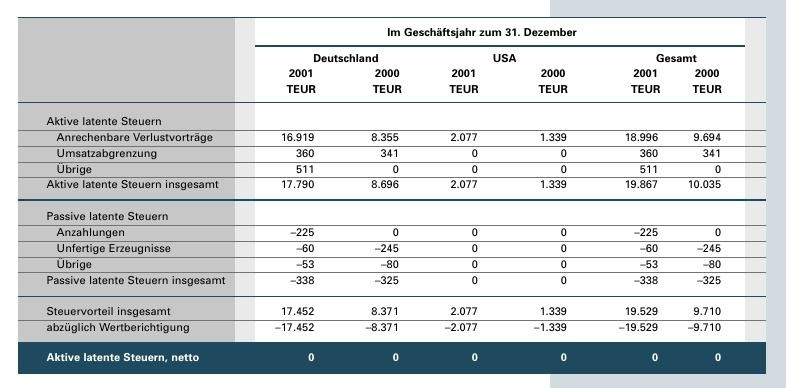table: (0, 0, 786, 388)
